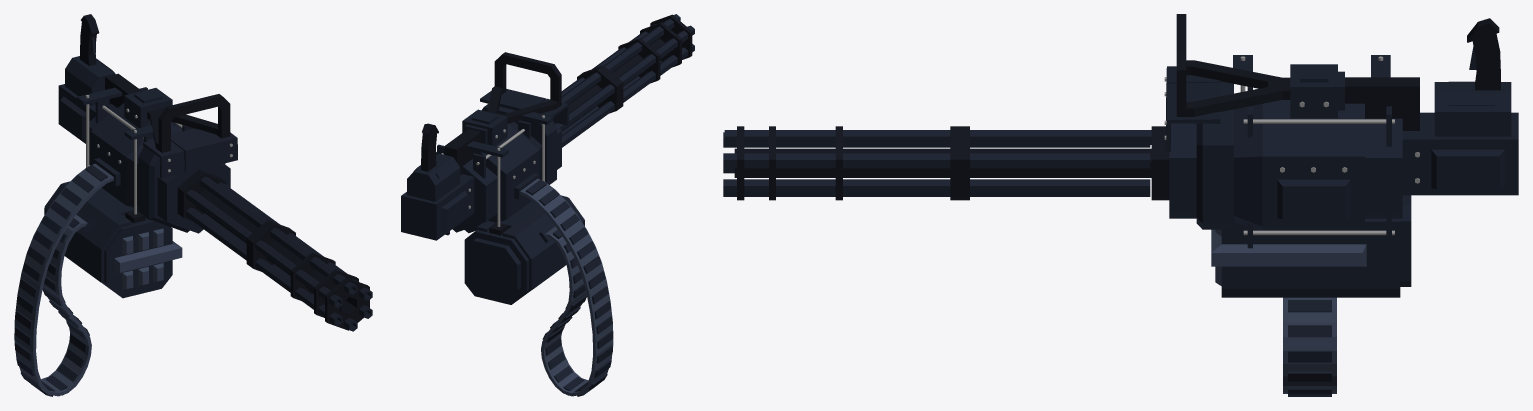
The model's file is Machine_gun.fbx.
The picture shows the model from 3 angles, left to right: view 1: azimuth 30°, elevation 25°; view 2: azimuth 150°, elevation 25°; view 3: azimuth 270°, elevation 25°; orthographic projection. The views are drawn at different scales.
Visible parts, largest first — view 1: Line001, Cylinder001, machine_gun, Cylinder009, Box012, Cylinder010, Box031, Cylinder007, Cylinder002, Cylinder006, Cylinder018, Cylinder019 (+10 smaller); view 2: Line001, Cylinder010, Cylinder001, machine_gun, Cylinder009, Box001, Box031, Box003, Cylinder034, Cylinder007, Cylinder006, Cylinder002 (+11 smaller); view 3: Cylinder009, Cylinder001, Cylinder010, Cylinder003, Cylinder004, Cylinder002, Box001, Cylinder019, Box031, Box024, Box003, Cylinder034 (+12 smaller).
Boxes of the visible parts, x1,y1,x2,y2 form: Line001: (14, 163, 113, 396); Cylinder001: (177, 170, 369, 330); machine_gun: (44, 181, 151, 282); Cylinder009: (90, 103, 182, 209); Box012: (143, 129, 237, 178); Cylinder010: (44, 184, 172, 298); Box031: (147, 94, 230, 152); Cylinder007: (186, 189, 342, 308); Cylinder002: (200, 176, 357, 295); Cylinder006: (186, 207, 342, 326); Cylinder018: (157, 163, 230, 233); Cylinder019: (138, 128, 225, 232); Line001: (520, 178, 613, 396); Cylinder010: (464, 198, 584, 304); Cylinder001: (554, 14, 692, 131); machine_gun: (477, 195, 584, 290); Cylinder009: (436, 122, 541, 233); Box001: (401, 174, 474, 240); Box031: (487, 52, 561, 123); Box003: (407, 153, 460, 201); Cylinder034: (452, 159, 497, 232); Cylinder007: (554, 25, 694, 130); Cylinder006: (562, 44, 694, 147); Cylinder002: (561, 14, 680, 103); Cylinder009: (1234, 100, 1364, 230); Cylinder001: (734, 126, 1169, 200); Cylinder010: (1221, 195, 1411, 297); Cylinder003: (723, 153, 1150, 168); Cylinder004: (723, 179, 1150, 194); Cylinder002: (724, 130, 1151, 144); Box001: (1402, 112, 1518, 195); Cylinder019: (1196, 81, 1233, 229); Box031: (1176, 14, 1290, 116); Box024: (1211, 229, 1366, 266); Box003: (1434, 82, 1511, 136); Cylinder034: (1365, 118, 1402, 218).
Bounding box in the file's own units: 1174 × 1981 × 3233.
